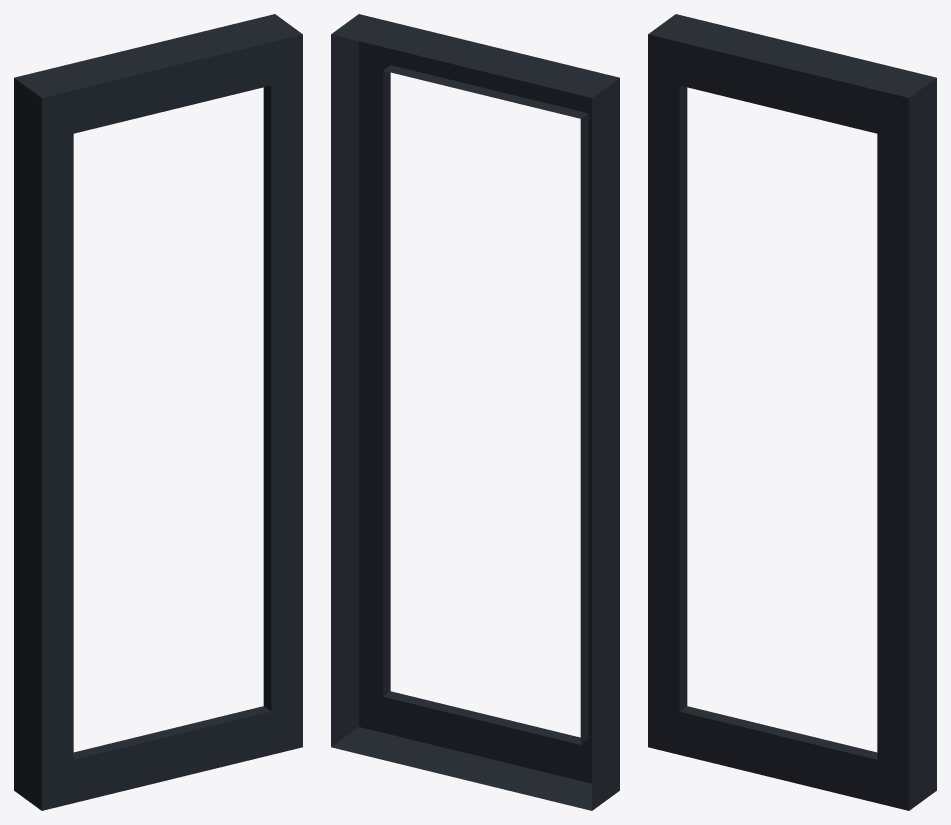
File: SO_picture08.fbx
3 views of the same model, side by side, from view 1: azimuth 30°, elevation 25°; view 2: azimuth 150°, elevation 25°; view 3: azimuth 330°, elevation 25° (orthographic).
Parts seen in each view (by area): view 1: SO_pictures08; view 2: SO_pictures08; view 3: SO_pictures08.
Boxes of the visible parts, box(x1,y1,x2,y2) form: SO_pictures08: box(14, 14, 302, 810); SO_pictures08: box(331, 14, 619, 810); SO_pictures08: box(648, 14, 936, 810).
Size of the model in its own units: 38.06 by 99.28 by 7.03.
